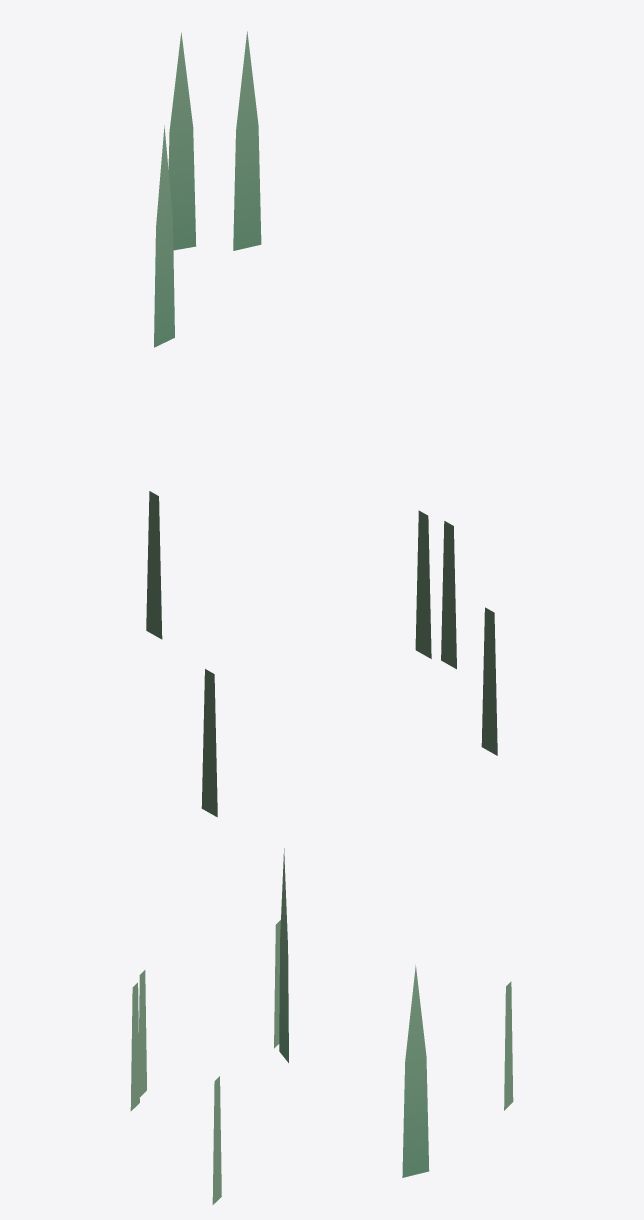
Rendered from crocus.glb.
3 renders of one model, top to bottom at view 1: azimuth 30°, elevation 25°; view 2: azimuth 150°, elevation 25°; view 3: azimuth 270°, elevation 25°, orthographic. The views are drawn at different scales.
Visible parts, largest first — view 1: near, far; view 2: near; view 3: near, far.
Part boxes in pixels (x1,y1,x2,y2): near: (168, 31, 261, 250); far: (154, 125, 174, 347); near: (146, 491, 497, 817); near: (130, 920, 513, 1204); far: (279, 848, 288, 1062).
Size of the model in its own units: 0.3173 by 0.12 by 0.3188.
